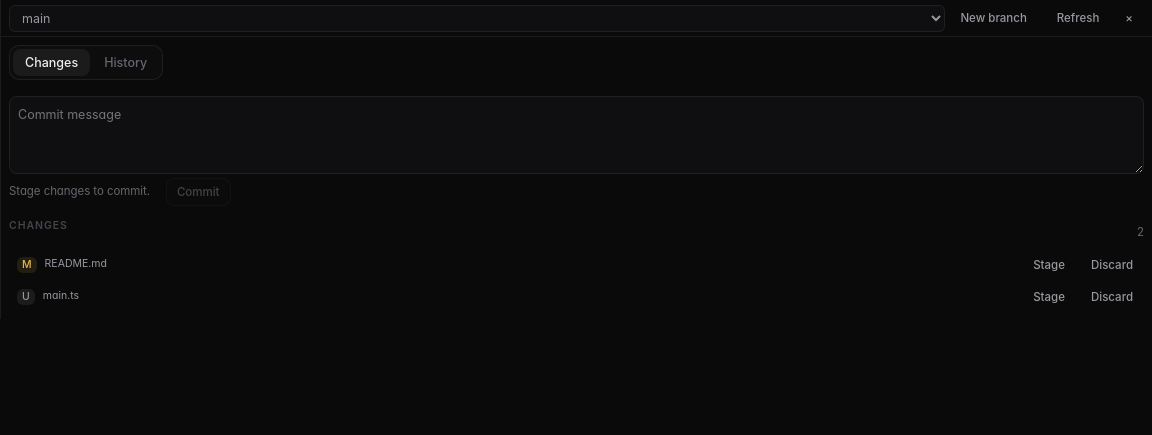
Test case: SourceControlPanel › opens an inline diff for a changed file
Click the text "README.md" at (76, 265), box [45,256,107,273]
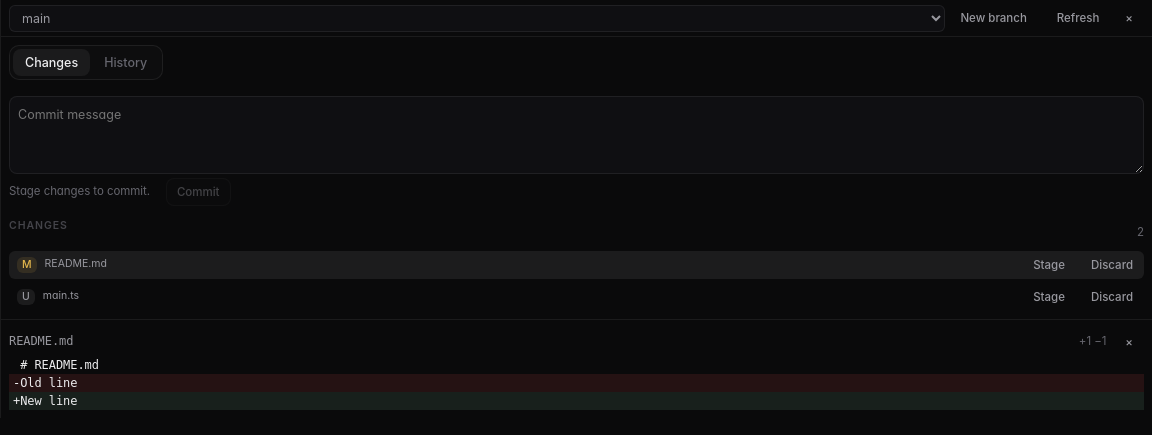
Check: the text "+New line" is shown, box [9,392,1144,410]
Check: the text "-Old line" is shown, box [9,374,1144,392]
